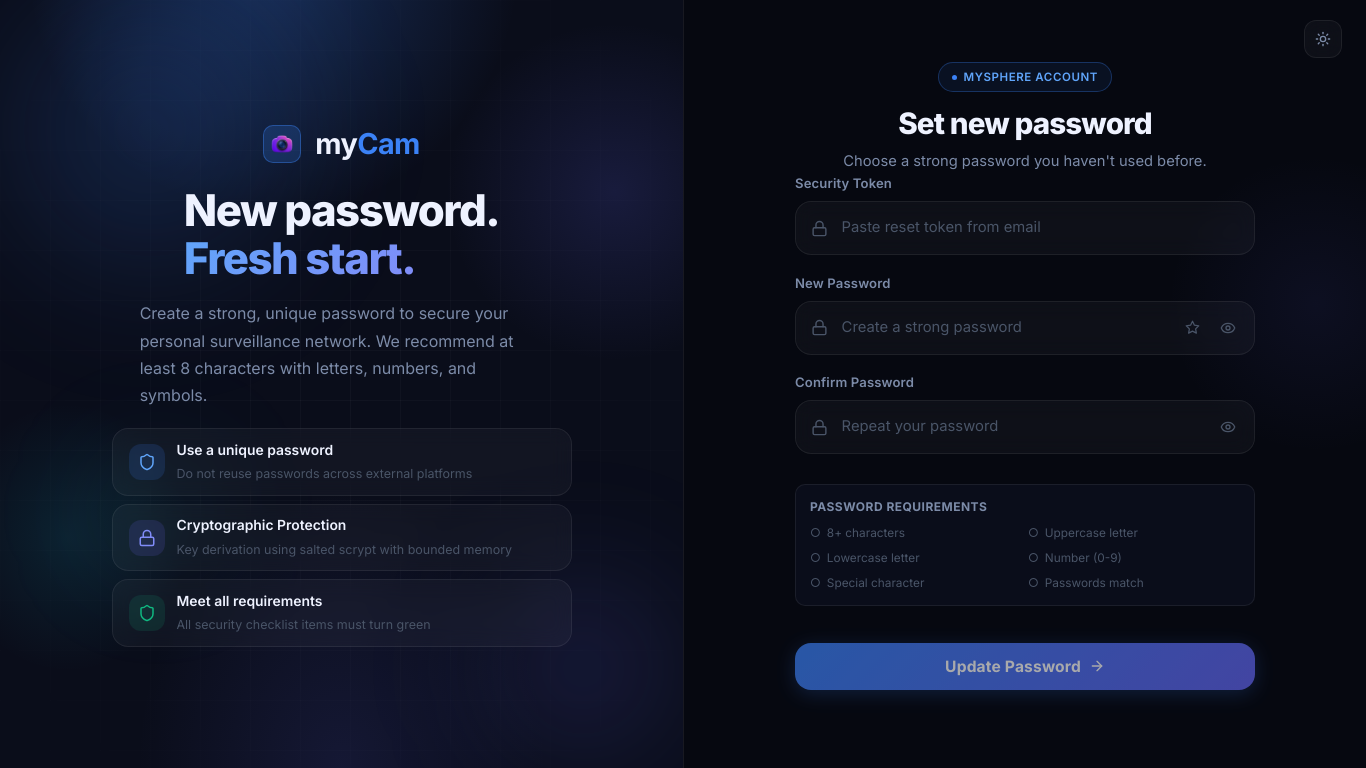
Test case: auth screens render without React console errors › ResetPassword success state is also clean
This screenshot has width=1366, height=768.
Step 1. Type "t" into the field with id "reset-token" → (1025, 228), box [795,201,1255,255]
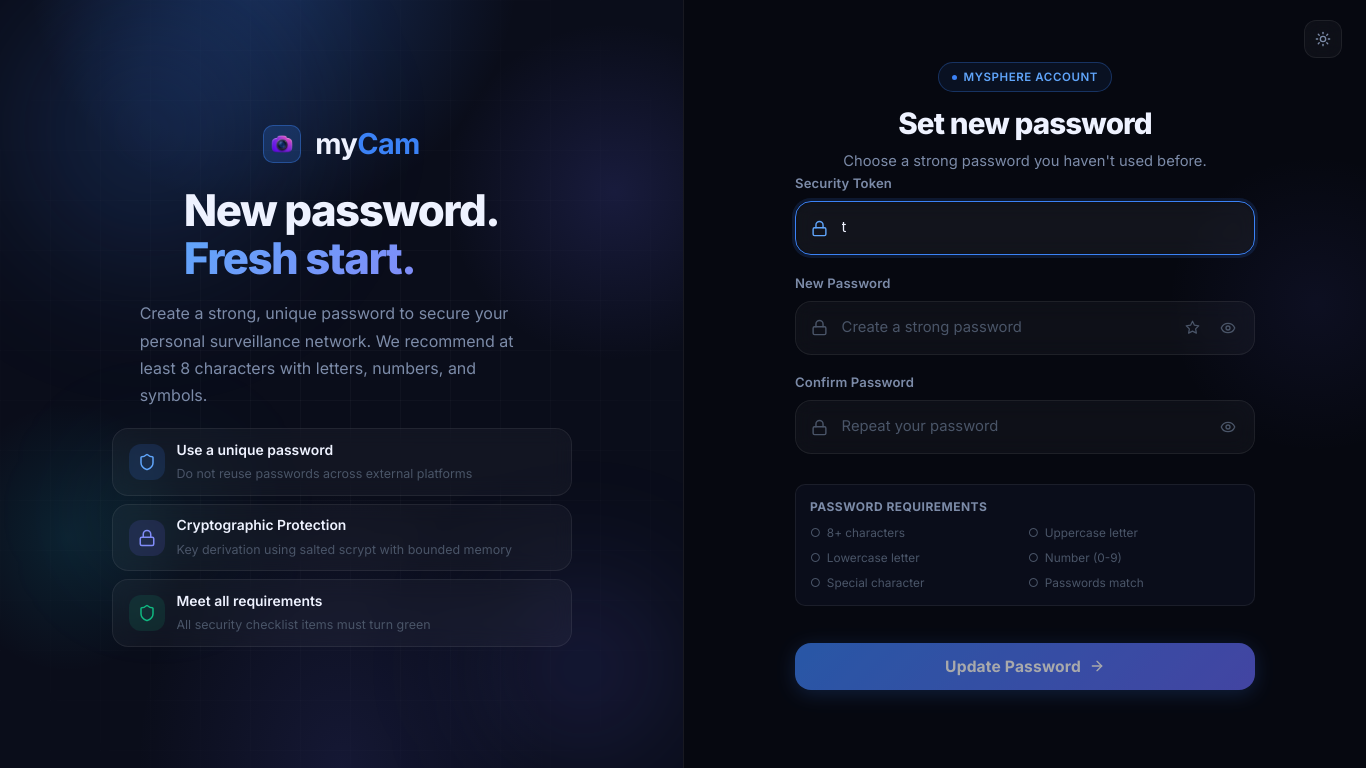
Step 2. Click the button named "generate strong password" → (1192, 328), box [1177,313,1207,343]
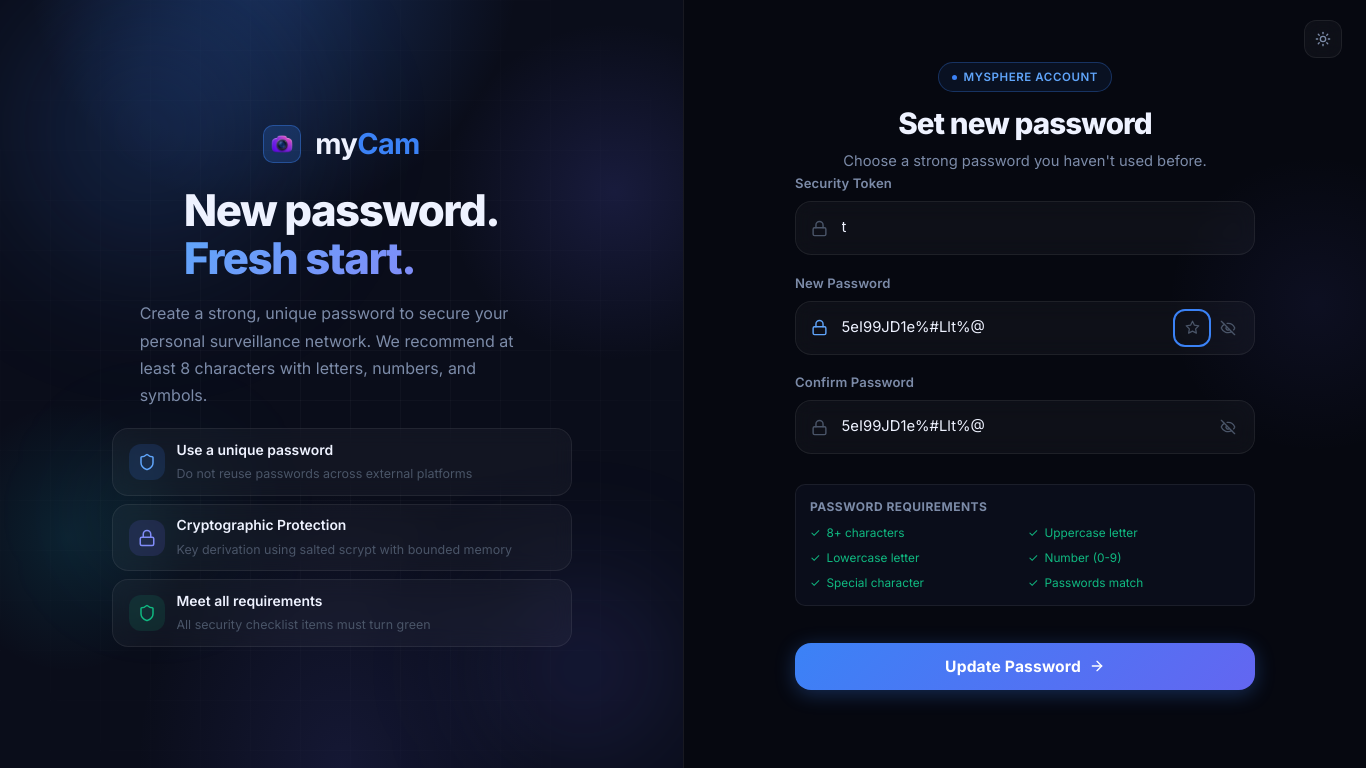
Step 3. Click the button "Update Password" → (1025, 666), box [795,643,1255,690]
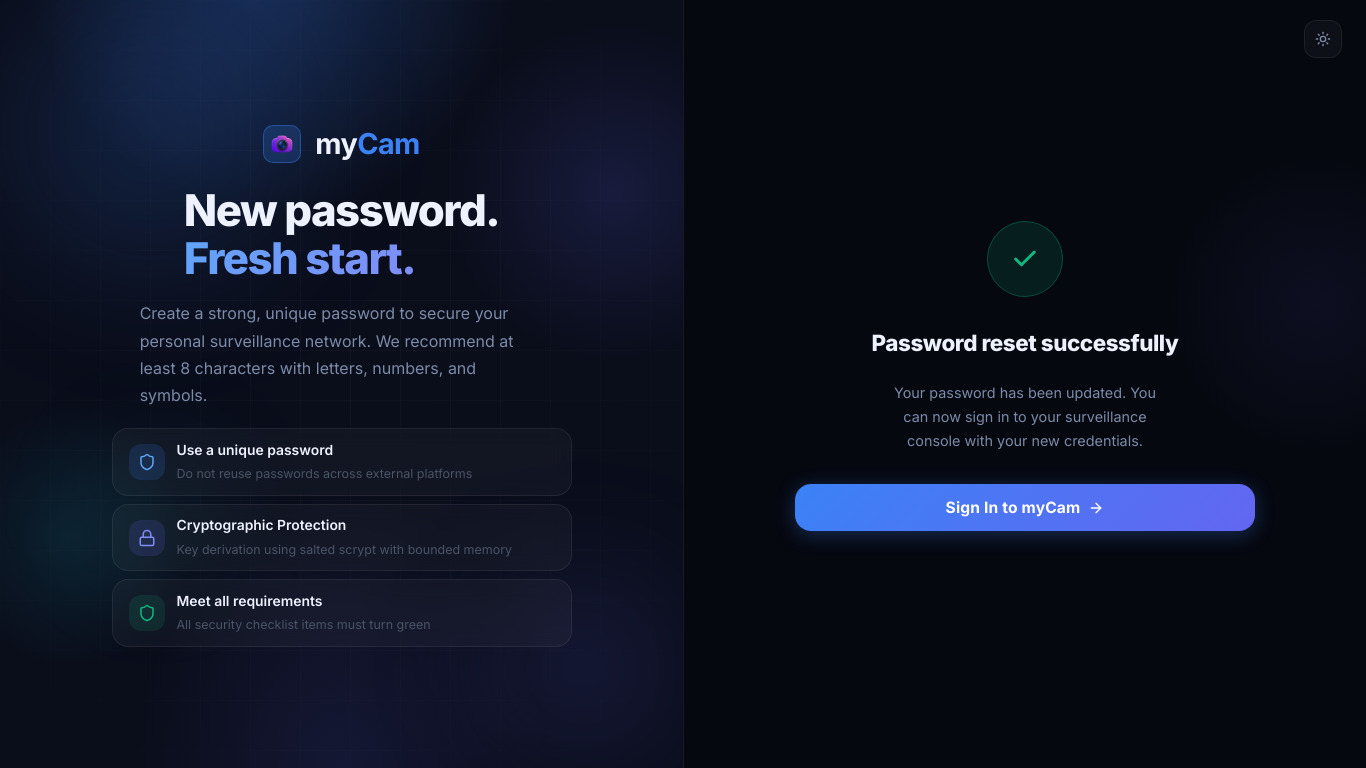
Check: the heading "Password reset successfully" is shown, box [872,325,1178,361]
